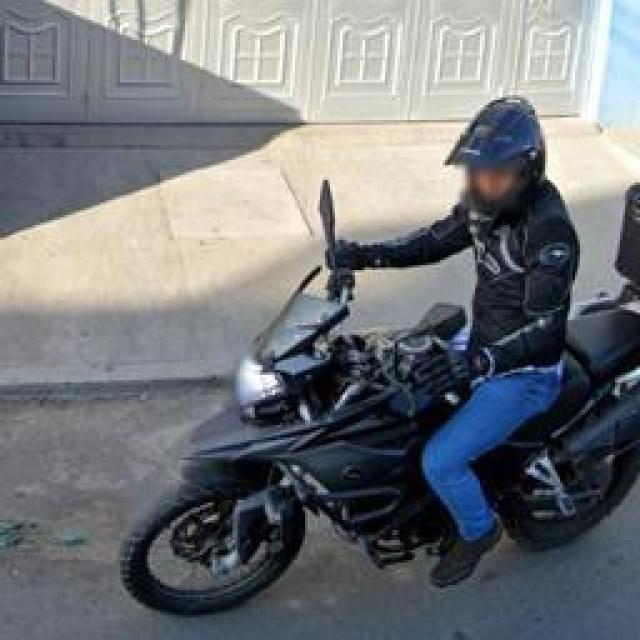motorcycle: (115, 93, 640, 624)
